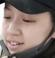mask_weared_incorrect: (2, 2, 55, 58)
